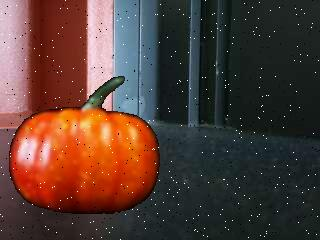Pumpkin: (6, 74, 162, 215)
